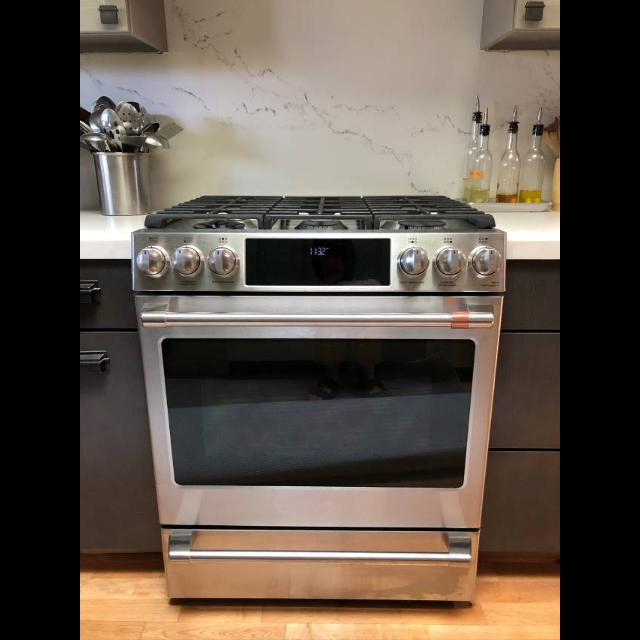Oven: (130, 223, 504, 527)
